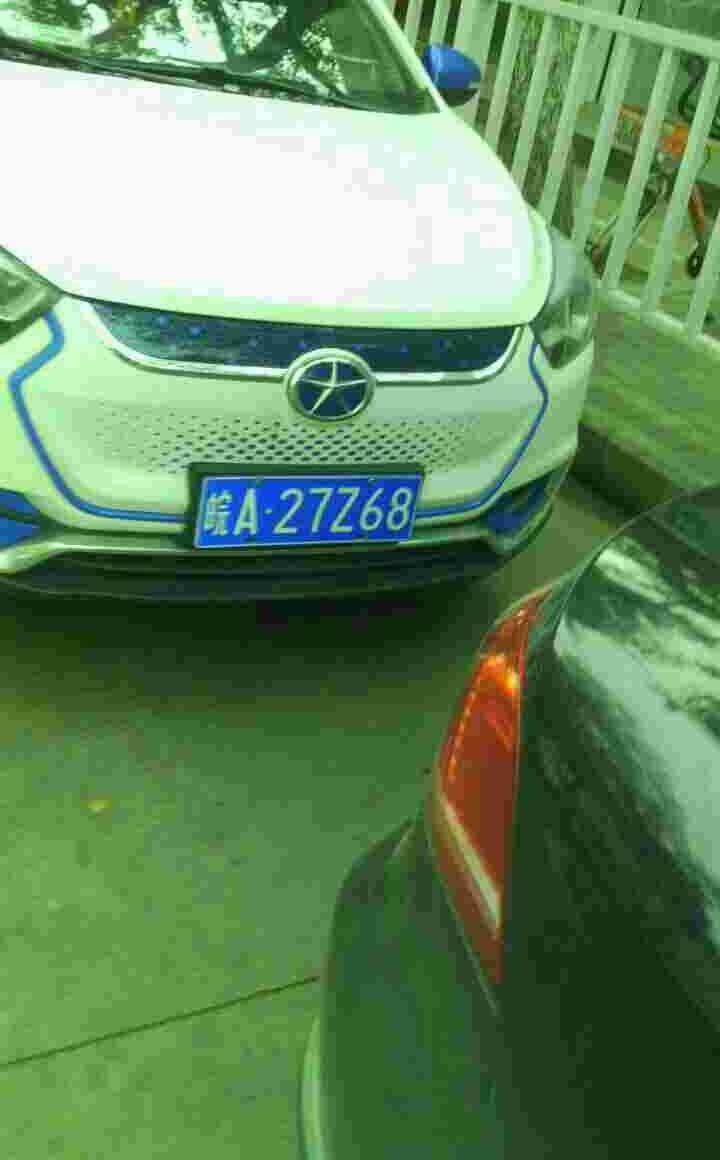license_plate: (203, 471, 431, 553)
